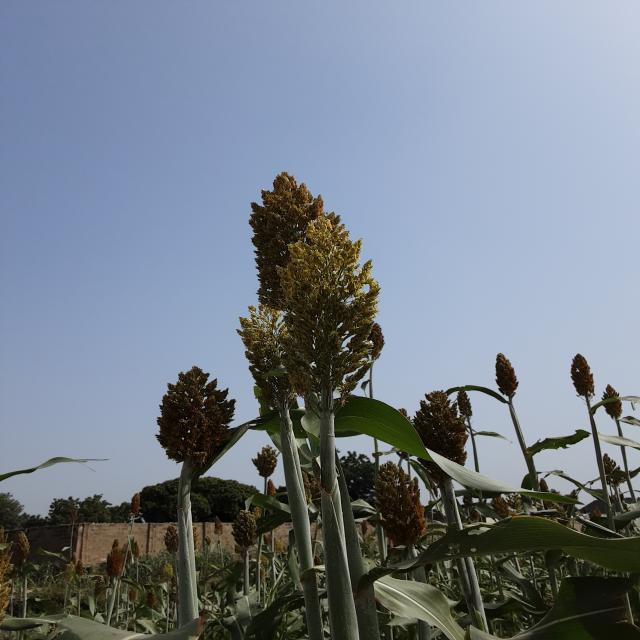UnripeSorghum: (265, 230, 398, 409), (219, 164, 352, 304), (202, 283, 324, 415)
